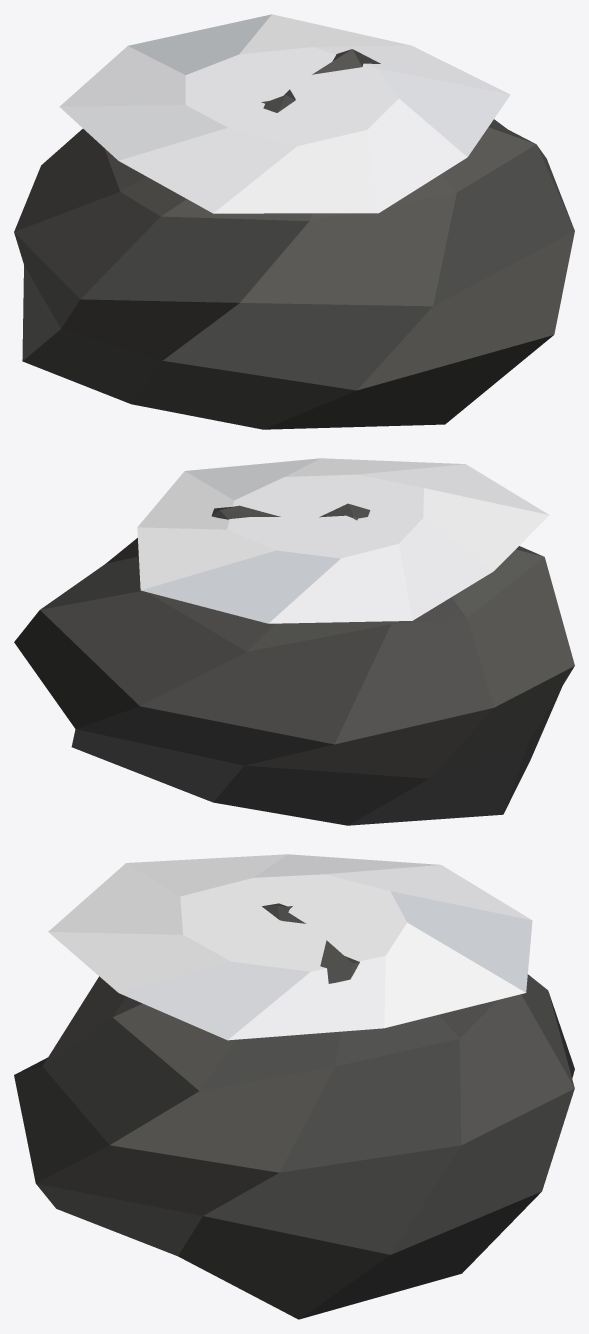
Rendered from boulder_snow.glb.
3 renders of one model, top to bottom at view 1: azimuth 30°, elevation 25°; view 2: azimuth 150°, elevation 25°; view 3: azimuth 270°, elevation 25°, orthographic. The views are drawn at different scales.
Visible parts, largest first — view 1: boulder_snow; view 2: boulder_snow; view 3: boulder_snow.
Part boxes in pixels (x1,y1,x2,y2): boulder_snow: (14, 14, 574, 429); boulder_snow: (14, 458, 574, 825); boulder_snow: (14, 854, 574, 1319).
Bounding box in the file's own units: 2.61 × 1.26 × 2.28.
1 material, 1 textured.
